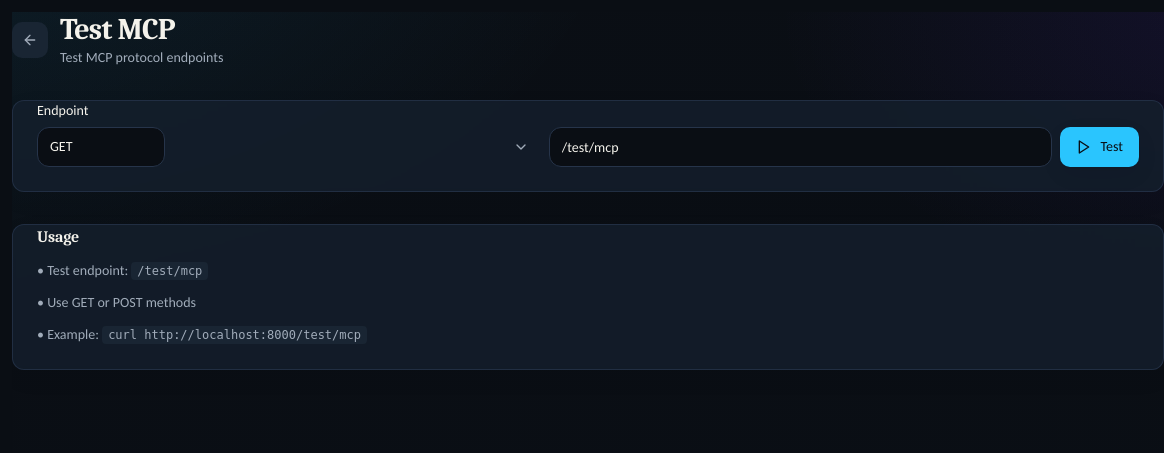
it: ProtocolTest page › mcp › shows errors
Click the button "Test".
click(1100, 147)  # box [1060,127,1139,167]
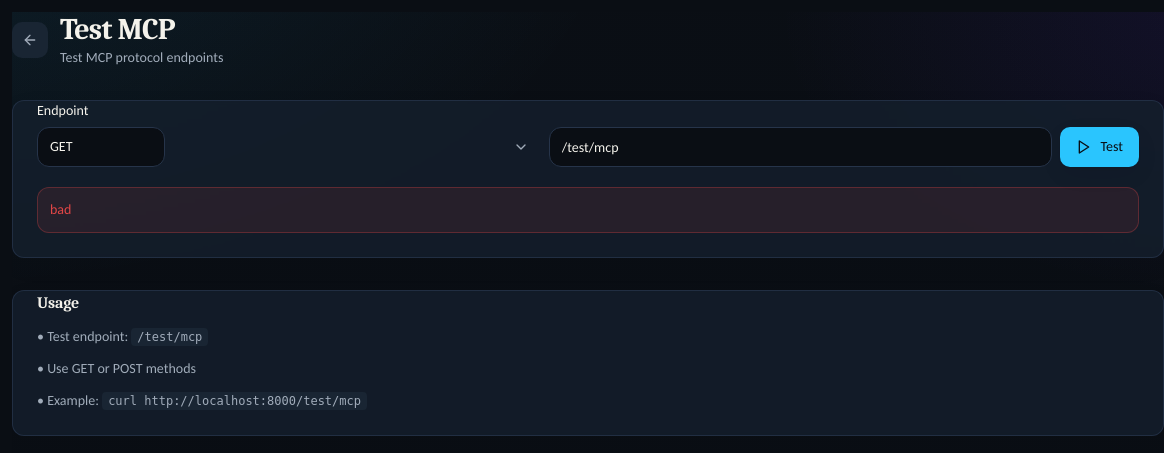
Result: the text "bad" is shown at [37,187,1139,233]
